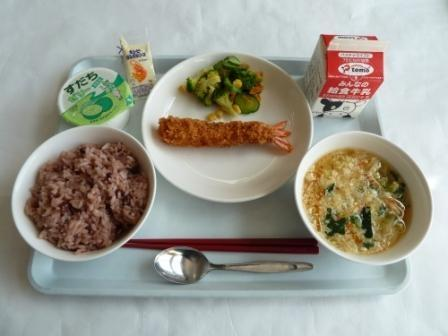Cup desserts: (55, 65, 142, 130)
Milk: (307, 32, 389, 121)
Mixed rice: (12, 126, 162, 256)
Salad: (178, 50, 274, 113)
Soups: (292, 135, 432, 260)
seafood: (157, 108, 291, 162)
